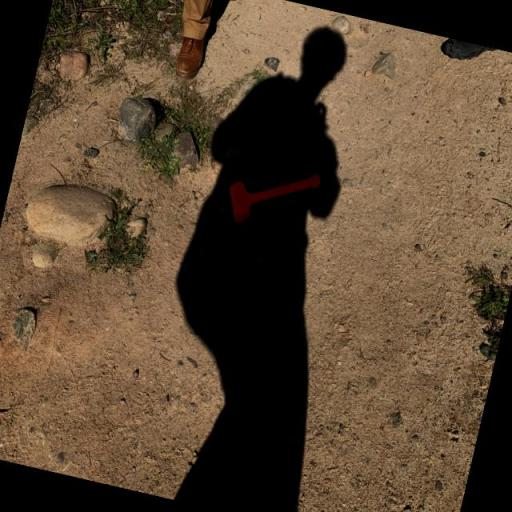mallet: (220, 153, 326, 241)
